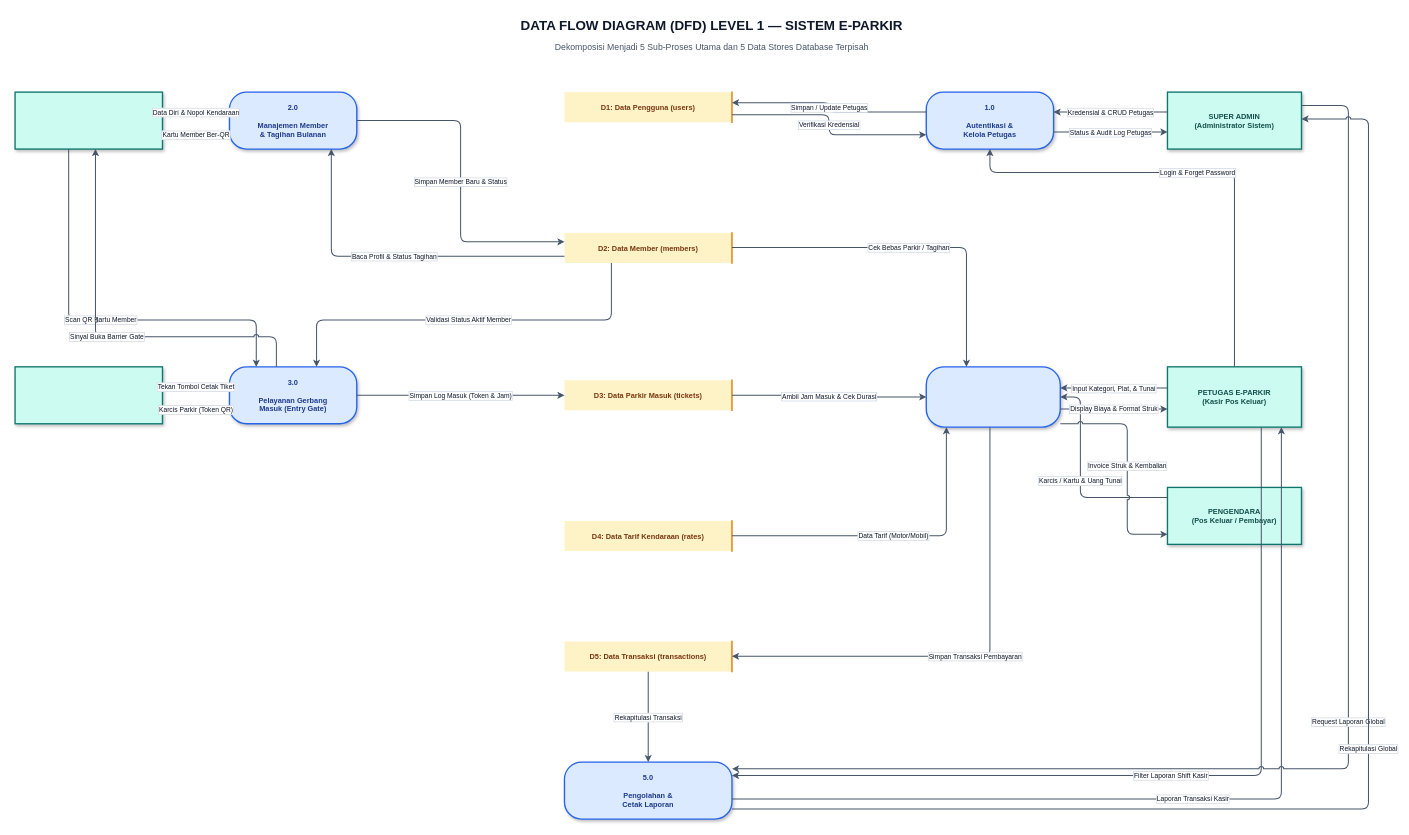
This 1409x835 diagram has some shape labels left out. Each missing label, with the centre of its shape:
"4.0 Transaksi Pembayaran Pos Keluar (Kasir)" goes at [994,397].
"PENGENDARA MEMBER (Pemilik Kartu / Berlangganan)" goes at [89,121].
"PENGENDARA NON-MEMBER (Pintu Gerbang Masuk)" goes at [89,396].
